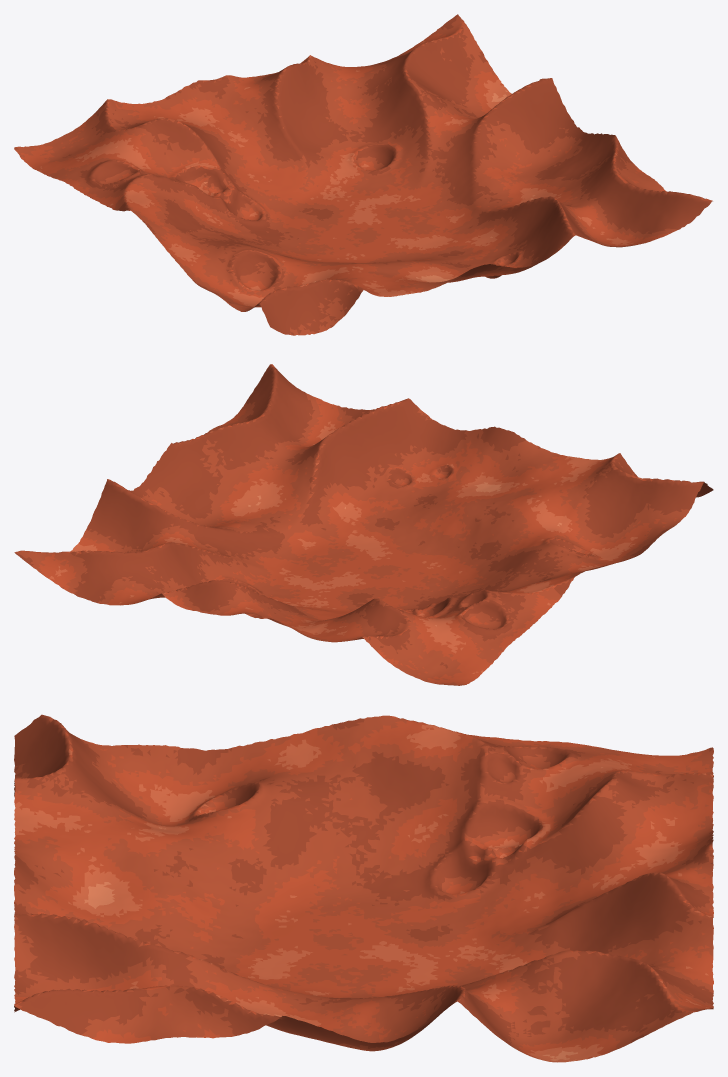
The model's file is terrain.glb.
The picture shows the model from 3 angles, top to bottom: view 1: azimuth 30°, elevation 25°; view 2: azimuth 150°, elevation 25°; view 3: azimuth 270°, elevation 25°; orthographic projection. The views are drawn at different scales.
Parts seen in each view (by area): view 1: terrain; view 2: terrain; view 3: terrain.
Part boxes in pixels (left/top/right/bottom): terrain: left=14, top=14, right=712, bottom=335; terrain: left=14, top=364, right=713, bottom=685; terrain: left=14, top=714, right=713, bottom=1062.
Bounding box in the file's own units: 240 × 35.82 × 240.
